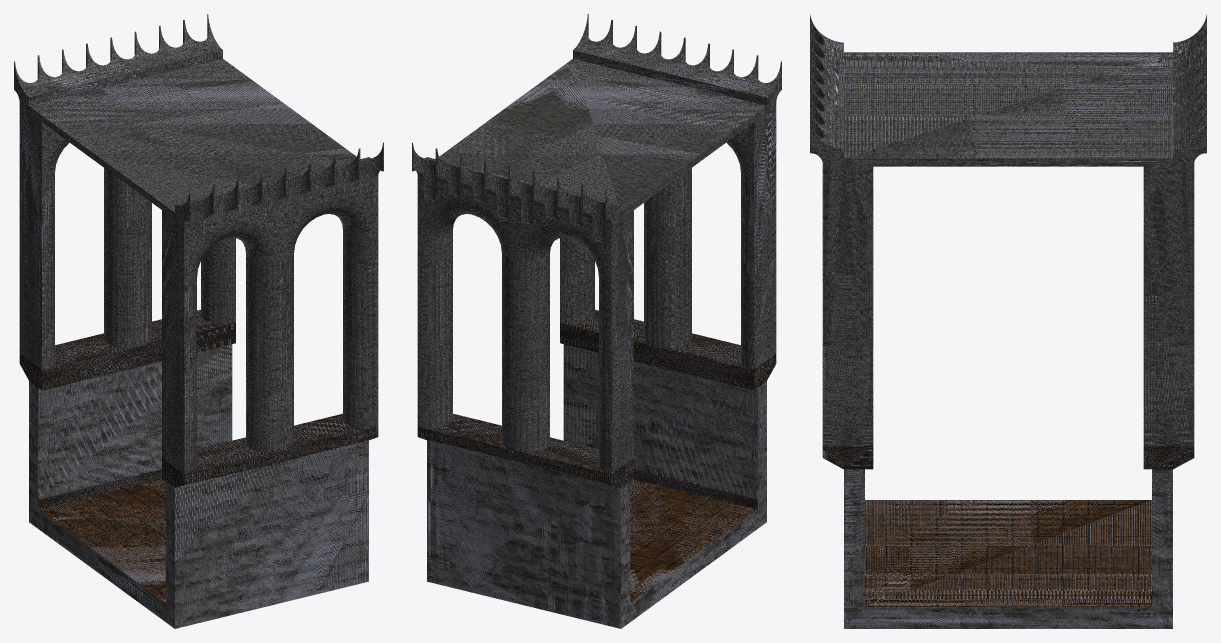
Rendered from IS_50_DPLAT_002.fbx.
3 views of the same model, side by side, from view 1: azimuth 30°, elevation 25°; view 2: azimuth 150°, elevation 25°; view 3: azimuth 270°, elevation 25° (orthographic). The views are drawn at different scales.
Visible parts, largest first — view 1: Group7, Group6, Group5, Group4, Group2; view 2: Group7, Group6, Group5, Group4, Group2; view 3: Group7, Group4, Group6, Group2, Group5.
Part boxes in pixels (bbox=[...]): Group7: bbox=[14, 50, 383, 474]; Group6: bbox=[29, 344, 368, 628]; Group5: bbox=[19, 309, 378, 509]; Group4: bbox=[39, 479, 165, 602]; Group2: bbox=[14, 14, 383, 214]; Group7: bbox=[412, 50, 781, 474]; Group6: bbox=[427, 344, 766, 628]; Group5: bbox=[417, 309, 776, 509]; Group4: bbox=[630, 479, 756, 602]; Group2: bbox=[412, 14, 781, 214]; Group7: bbox=[810, 52, 1206, 446]; Group4: bbox=[865, 500, 1151, 606]; Group6: bbox=[844, 469, 1172, 628]; Group2: bbox=[810, 14, 1206, 149]; Group5: bbox=[822, 446, 1194, 469].
Bounding box in the file's own units: 60 × 133 × 94.12.
